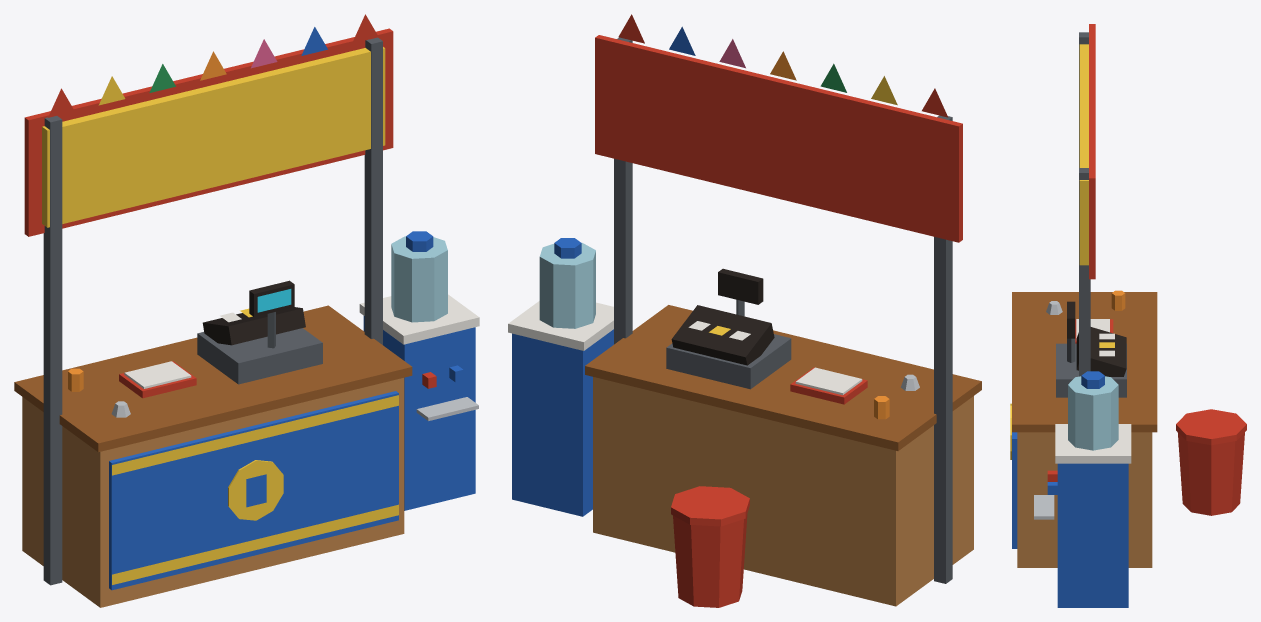
File: cashier_desk.glb
3 views of the same model, side by side, from view 1: azimuth 30°, elevation 25°; view 2: azimuth 150°, elevation 25°; view 3: azimuth 270°, elevation 25° (orthographic). The views are drawn at different scales.
Parts seen in each view (by area): view 1: cashier_desk; view 2: cashier_desk; view 3: cashier_desk.
Boxes of the visible parts, box(x1,y1,x2,y2) form: cashier_desk: box(14, 14, 479, 607); cashier_desk: box(508, 14, 981, 607); cashier_desk: box(1010, 24, 1246, 607).
Size of the model in its own units: 2.56 by 2.78 by 1.4.
Materials: 1 (1 with a texture image).
